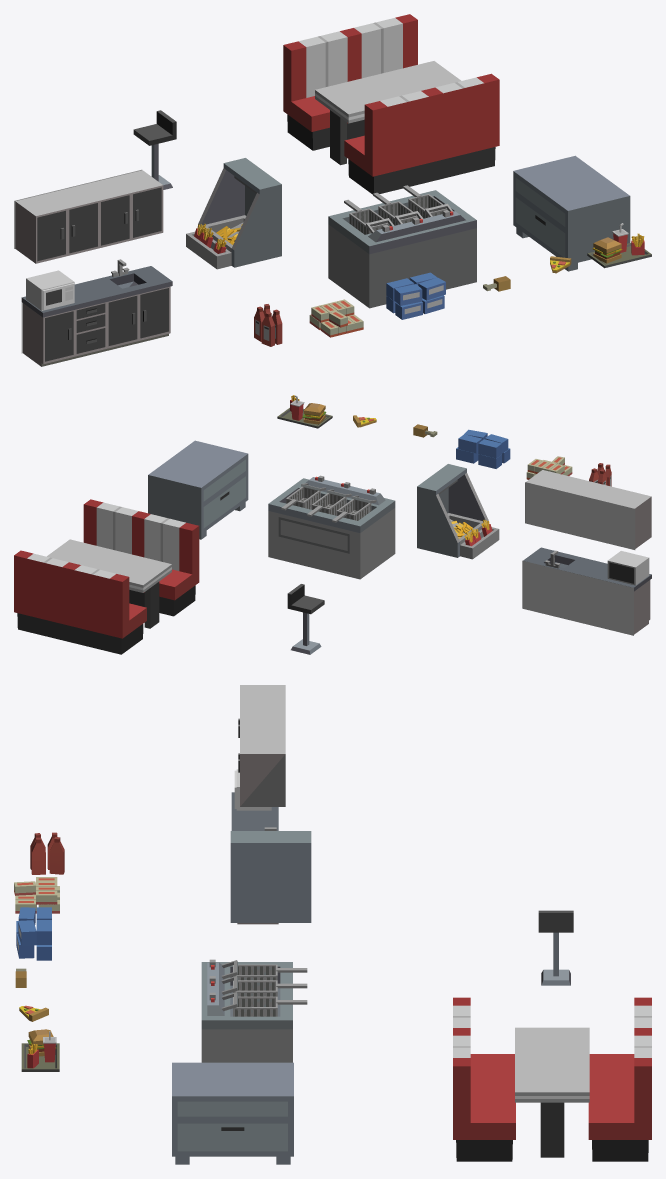
File: Kitchen (2)_subset.FBX
The picture shows the model from 3 angles, top to bottom: view 1: azimuth 30°, elevation 25°; view 2: azimuth 150°, elevation 25°; view 3: azimuth 270°, elevation 25°; orthographic projection. The views are drawn at different scales.
Parts seen in each view (by area): view 1: SI_Prop_ChairTables_08 (2), Prop_KitchenSink_Black (1), SI_Prop_Fryer (1), SI_Prop_KitchenCounter_01, SI_Prop_FriesHeater_02, SI_Prop_ShelfItem_21, SI_Prop_FastfoodTray_05, SI_Prop_ShelfItem_22, Prop_Bar_Stool (1), SI_Prop_ShelfItem_26; view 2: SI_Prop_ChairTables_08 (2), Prop_KitchenSink_Black (1), SI_Prop_Fryer (1), SI_Prop_KitchenCounter_01, SI_Prop_FriesHeater_02, Cube, SI_Prop_ShelfItem_21, Prop_Bar_Stool (1), SI_Prop_FastfoodTray_05, SI_Prop_ShelfItem_22, SI_Prop_ShelfItem_26; view 3: SI_Prop_ChairTables_08 (2), SI_Prop_KitchenCounter_01, SI_Prop_Fryer (1), SI_Prop_FriesHeater_02, Prop_KitchenSink_Black (1), SI_Prop_ShelfItem_21, Prop_Bar_Stool (1), SI_Prop_FastfoodTray_05, SI_Prop_ShelfItem_22, SI_Prop_ShelfItem_26.
Part boxes in pixels (x1,y1,x2,y2): SI_Prop_ChairTables_08 (2): (283, 14, 499, 194); Prop_KitchenSink_Black (1): (14, 169, 172, 366); SI_Prop_Fryer (1): (328, 185, 476, 308); SI_Prop_KitchenCounter_01: (513, 155, 630, 271); SI_Prop_FriesHeater_02: (186, 158, 281, 269); SI_Prop_ShelfItem_21: (386, 272, 445, 319); SI_Prop_FastfoodTray_05: (587, 223, 651, 268); SI_Prop_ShelfItem_22: (309, 299, 363, 337); Prop_Bar_Stool (1): (133, 110, 176, 189); SI_Prop_ShelfItem_26: (254, 304, 282, 346); SI_Prop_ChairTables_08 (2): (14, 499, 199, 654); Prop_KitchenSink_Black (1): (523, 470, 651, 634); SI_Prop_Fryer (1): (268, 475, 395, 579); SI_Prop_KitchenCounter_01: (148, 440, 248, 539); SI_Prop_FriesHeater_02: (417, 464, 499, 559); Cube: (522, 560, 633, 635); SI_Prop_ShelfItem_21: (456, 429, 510, 468); Prop_Bar_Stool (1): (287, 584, 324, 654); SI_Prop_FastfoodTray_05: (277, 395, 332, 428); SI_Prop_ShelfItem_22: (526, 456, 572, 479); SI_Prop_ShelfItem_26: (589, 463, 611, 486); SI_Prop_ChairTables_08 (2): (453, 997, 651, 1161); SI_Prop_KitchenCounter_01: (172, 1062, 293, 1164); SI_Prop_Fryer (1): (201, 959, 307, 1062); SI_Prop_FriesHeater_02: (230, 831, 311, 922); Prop_KitchenSink_Black (1): (231, 685, 285, 924); SI_Prop_ShelfItem_21: (16, 907, 51, 960); Prop_Bar_Stool (1): (538, 910, 573, 985); SI_Prop_FastfoodTray_05: (21, 1029, 59, 1071); SI_Prop_ShelfItem_22: (14, 877, 59, 913); SI_Prop_ShelfItem_26: (30, 832, 64, 874).
Bounding box in the file's own units: 14314 × 3813 × 12581.
4 materials, 3 textured.
